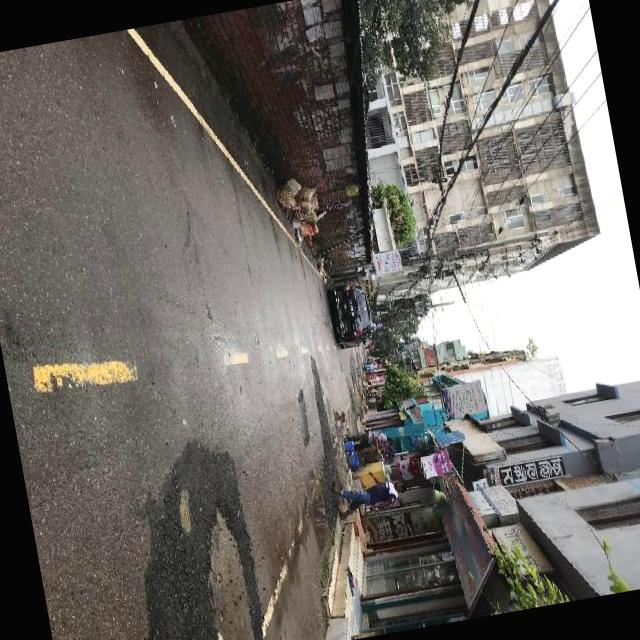car: (325, 278, 378, 354)
